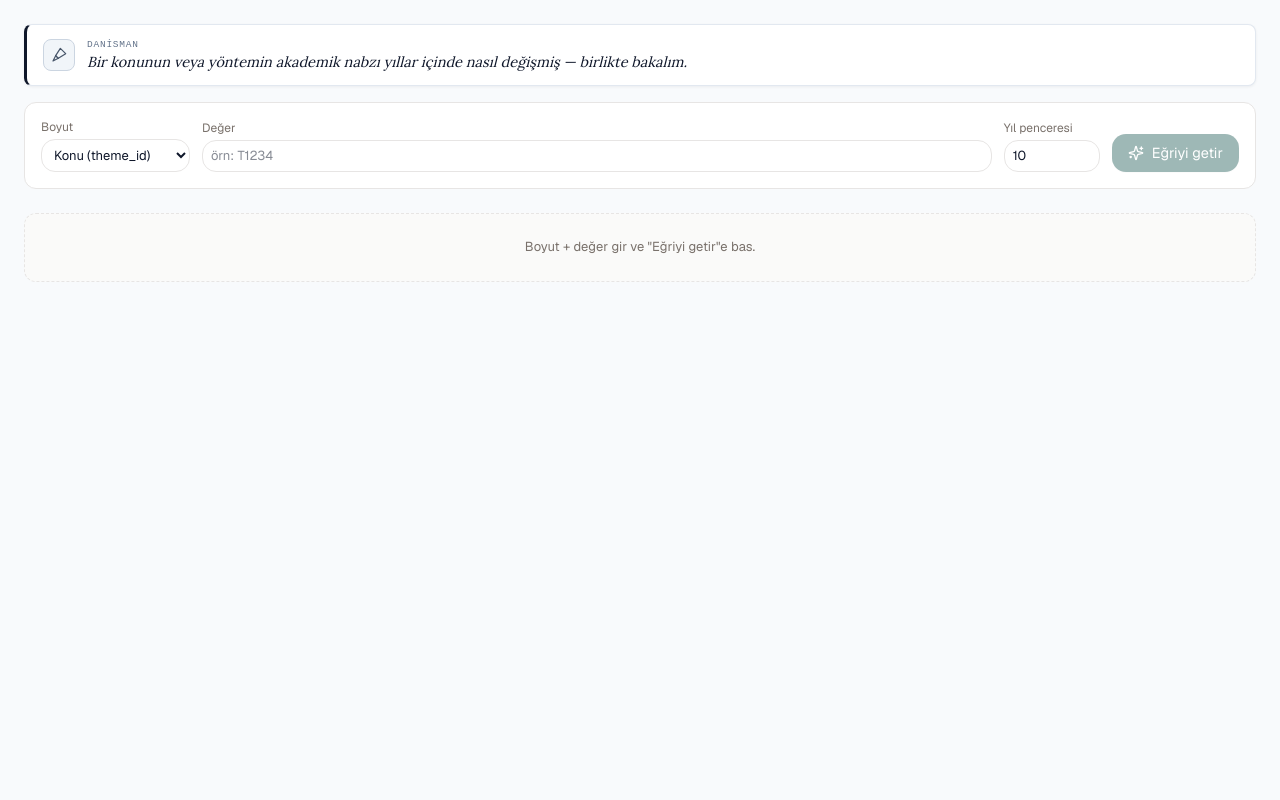
ImpactCurvePage › değer + Eğriyi getir → impact-curve fetch + chart render
Type "T1234" into the field labelled "Değer" at (597, 156), box x1=202 y1=140 x2=992 y2=172
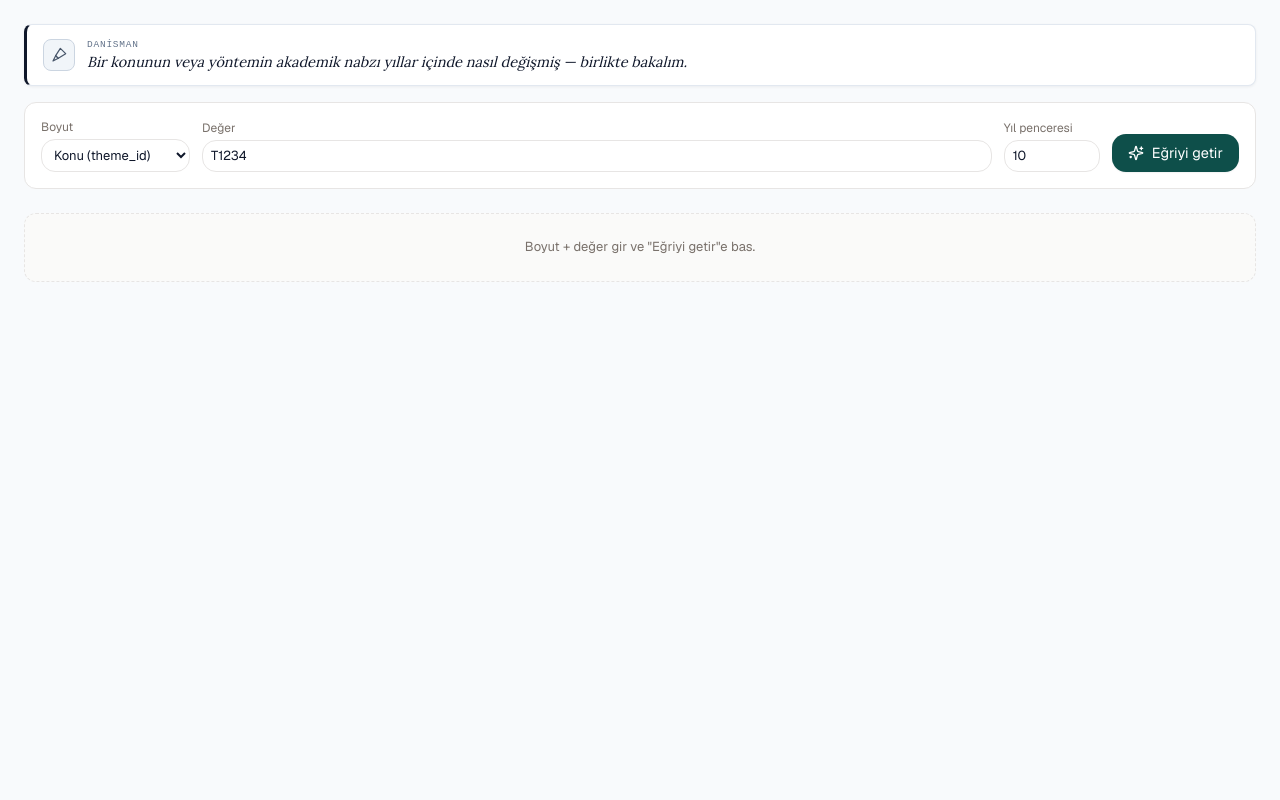
Click the button "Eğriyi getir" at (1175, 153), box x1=1112 y1=134 x2=1239 y2=172
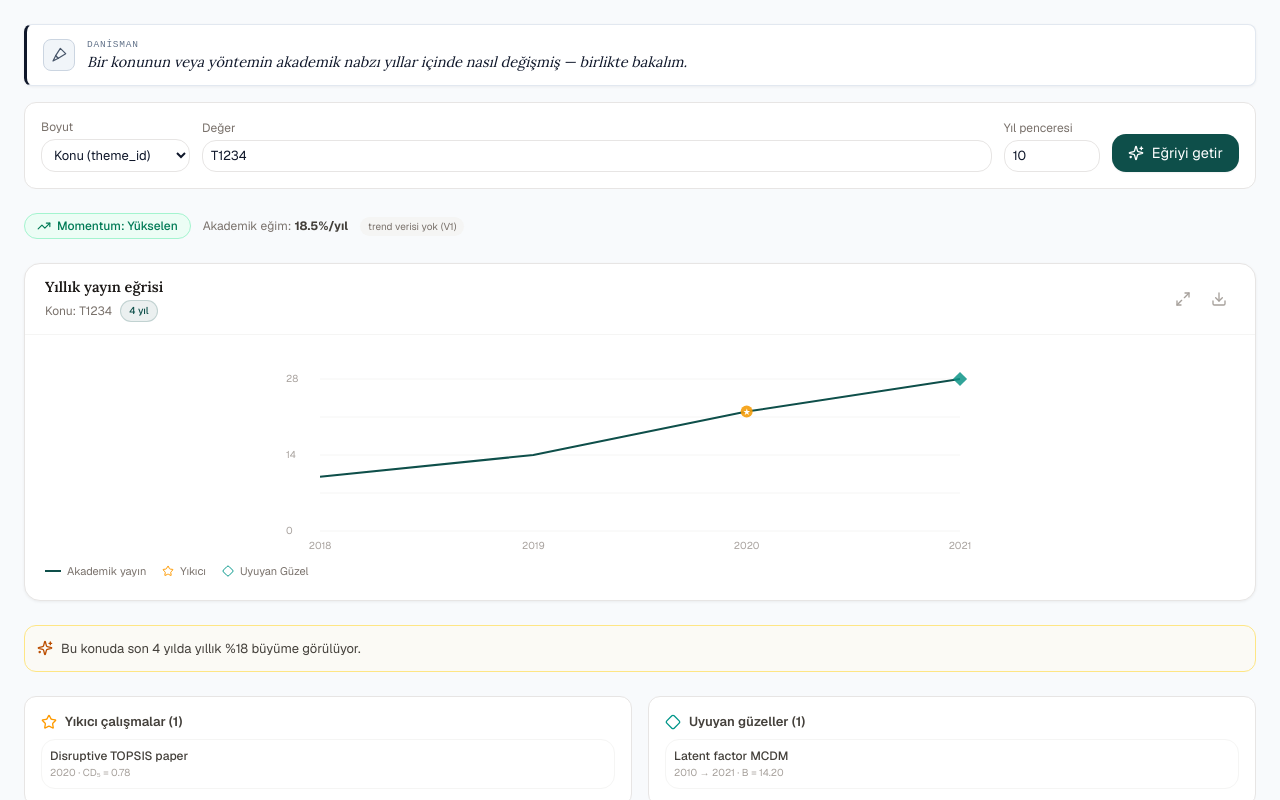
Check: the text "Disruptive TOPSIS paper" is shown, box x1=50 y1=748 x2=188 y2=764
Check: the text "Latent factor MCDM" is shown, box x1=674 y1=748 x2=788 y2=764
Check: the element with test id "momentum-badge" is shown, box x1=24 y1=213 x2=191 y2=239
